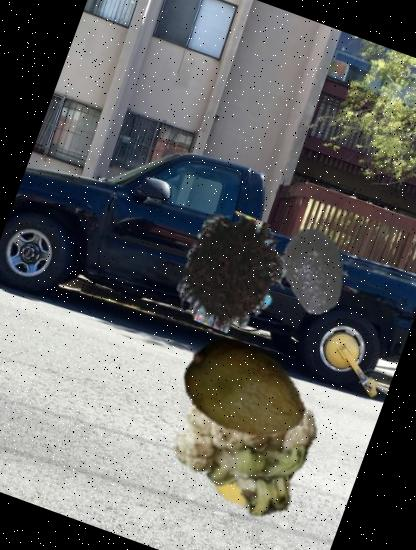Avocado: (258, 216, 370, 328)
Cauliflower: (150, 356, 338, 544)
Lemon: (180, 392, 313, 525)
Papaya: (161, 307, 328, 474)
Rambutan: (158, 198, 308, 348)
